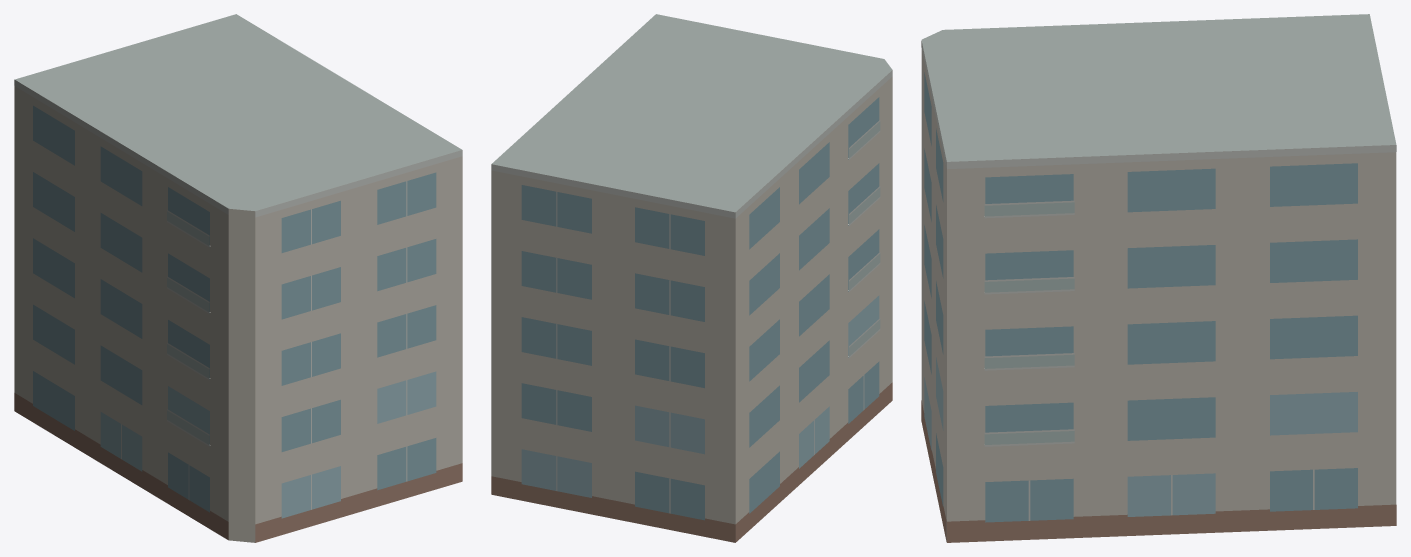
File: survey-upis-32664407.glb
3 views of the same model, side by side, from view 1: azimuth 30°, elevation 25°; view 2: azimuth 150°, elevation 25°; view 3: azimuth 270°, elevation 25° (orthographic). The views are drawn at different scales.
Parts seen in each view (by area): view 1: survey-upis-32664407.tmp; view 2: survey-upis-32664407.tmp; view 3: survey-upis-32664407.tmp.
Part boxes in pixels (x1,y1,x2,y2): survey-upis-32664407.tmp: [14, 14, 462, 542]; survey-upis-32664407.tmp: [491, 14, 892, 542]; survey-upis-32664407.tmp: [921, 14, 1396, 542].
Bounding box in the file's own units: 10.67 × 12.8 × 14.48.
